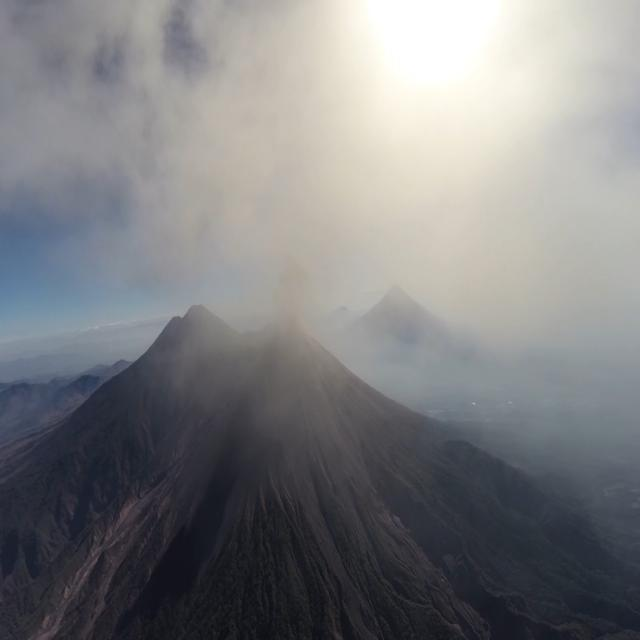Plume: (1, 0, 640, 438)
